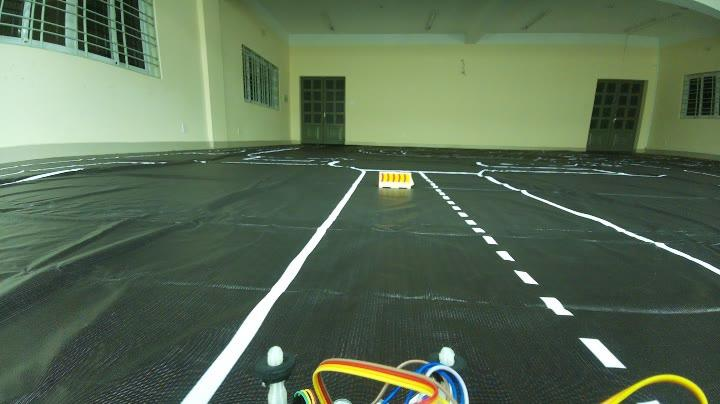roadblock: (374, 169, 421, 188)
